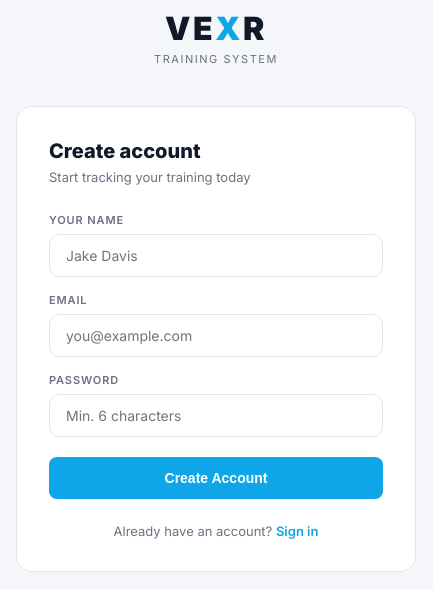
Test: Signup page › shows success screen after signup
In the field with placeholder "Jake Davis": coordinates (216, 255) 49,234 -> 383,276, type "Jacob"
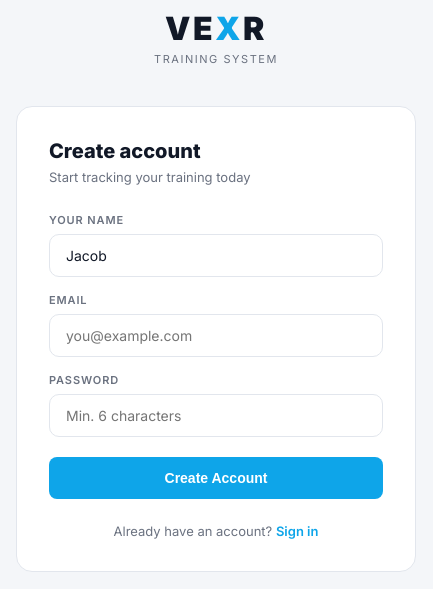
In the field with placeholder "you@example.com": coordinates (216, 335) 49,314 -> 383,356, type "jacob@example.com"
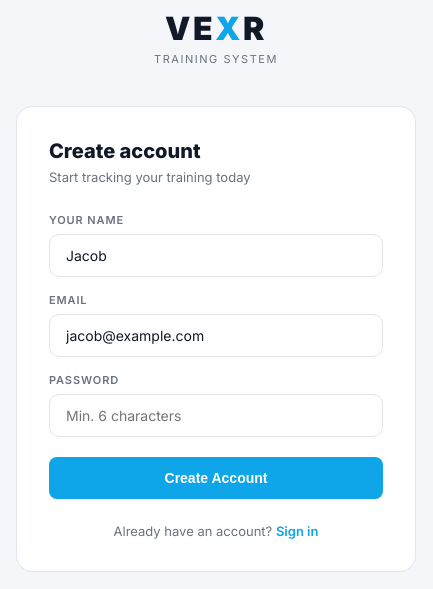
In the password field with placeholder "Min. 6 characters": coordinates (216, 415) 49,394 -> 383,436, type "password123"
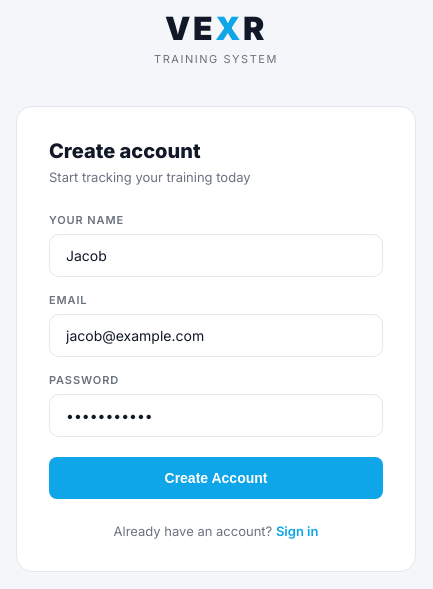
Click the button "Create Account": coordinates (216, 478) 49,456 -> 383,498
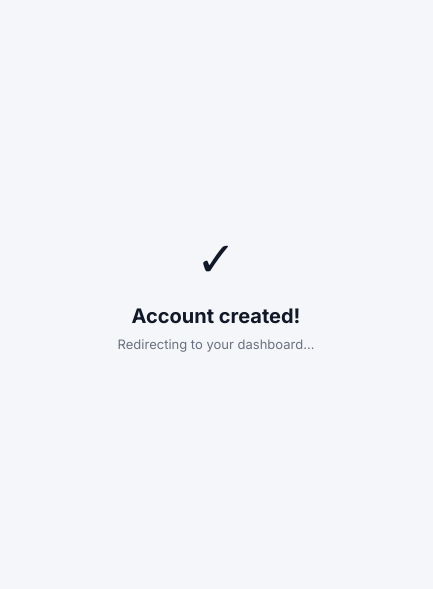
Expected: the text "Account created!" is shown, 118,304 -> 314,328
